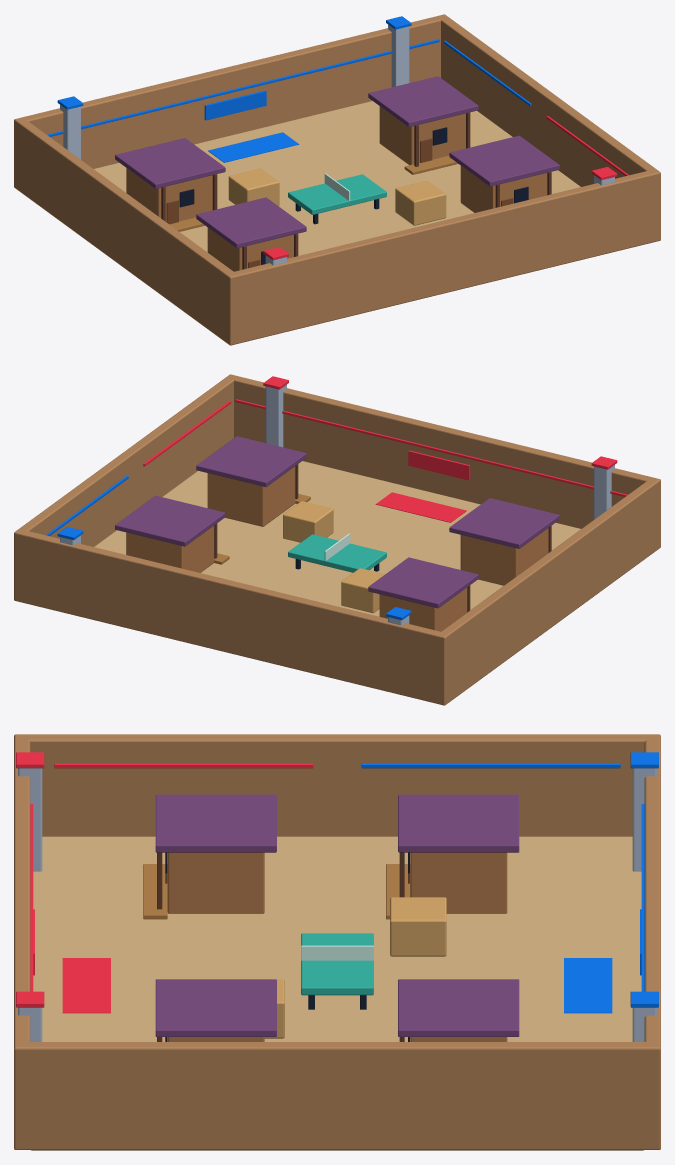
Rendered from Westown.glb.
The picture shows the model from 3 angles, top to bottom: view 1: azimuth 30°, elevation 25°; view 2: azimuth 150°, elevation 25°; view 3: azimuth 270°, elevation 25°; orthographic projection. The views are drawn at different scales.
Parts seen in each view (by area): view 1: Westown_PB_bc8a5c, Westown_PB_d9b784, Westown_PB_7a4b83, Westown_PB_ba8050, Westown_PB_087bff, Westown_PB_dcac68, Westown_PB_b5c6df, Westown_PB_32bbaa, Westown_PB_6d4432, Westown_PB_ff304b, Westown_PB_b68146, Westown_PB_17213a (+1 smaller); view 2: Westown_PB_bc8a5c, Westown_PB_d9b784, Westown_PB_7a4b83, Westown_PB_ba8050, Westown_PB_ff304b, Westown_PB_dcac68, Westown_PB_b5c6df, Westown_PB_32bbaa, Westown_PB_087bff; view 3: Westown_PB_bc8a5c, Westown_PB_d9b784, Westown_PB_7a4b83, Westown_PB_ba8050, Westown_PB_087bff, Westown_PB_ff304b, Westown_PB_dcac68, Westown_PB_b5c6df, Westown_PB_32bbaa, Westown_PB_b68146, Westown_PB_d8fff5, Westown_PB_6d4432.
Boxes of the visible parts, bbox=[...] form: Westown_PB_bc8a5c: bbox=[14, 14, 660, 345]; Westown_PB_d9b784: bbox=[94, 101, 580, 255]; Westown_PB_7a4b83: bbox=[115, 76, 559, 248]; Westown_PB_ba8050: bbox=[126, 106, 547, 271]; Westown_PB_087bff: bbox=[47, 16, 531, 162]; Westown_PB_dcac68: bbox=[228, 168, 446, 225]; Westown_PB_b5c6df: bbox=[60, 24, 614, 265]; Westown_PB_32bbaa: bbox=[288, 174, 386, 214]; Westown_PB_6d4432: bbox=[161, 112, 551, 269]; Westown_PB_ff304b: bbox=[263, 116, 628, 260]; Westown_PB_b68146: bbox=[169, 155, 458, 231]; Westown_PB_17213a: bbox=[179, 127, 528, 264]; Westown_PB_bc8a5c: bbox=[14, 374, 660, 705]; Westown_PB_d9b784: bbox=[94, 461, 580, 616]; Westown_PB_7a4b83: bbox=[115, 436, 559, 608]; Westown_PB_ba8050: bbox=[126, 466, 548, 631]; Westown_PB_ff304b: bbox=[143, 376, 627, 522]; Westown_PB_dcac68: bbox=[283, 501, 384, 613]; Westown_PB_b5c6df: bbox=[60, 384, 614, 625]; Westown_PB_32bbaa: bbox=[288, 534, 386, 572]; Westown_PB_087bff: bbox=[46, 476, 411, 620]; Westown_PB_bc8a5c: bbox=[14, 734, 660, 1149]; Westown_PB_d9b784: bbox=[31, 836, 643, 1150]; Westown_PB_7a4b83: bbox=[155, 794, 519, 1036]; Westown_PB_ba8050: bbox=[167, 852, 507, 1041]; Westown_PB_087bff: bbox=[361, 752, 658, 1013]; Westown_PB_ff304b: bbox=[16, 752, 313, 1013]; Westown_PB_dcac68: bbox=[264, 897, 446, 1038]; Westown_PB_b5c6df: bbox=[18, 768, 656, 1041]; Westown_PB_32bbaa: bbox=[301, 933, 373, 995]; Westown_PB_b68146: bbox=[143, 864, 410, 919]; Westown_PB_d8fff5: bbox=[301, 945, 373, 960]; Westown_PB_6d4432: bbox=[157, 852, 404, 1041].
Bounding box in the file's own units: 25.76 × 4.7 × 22.4.
